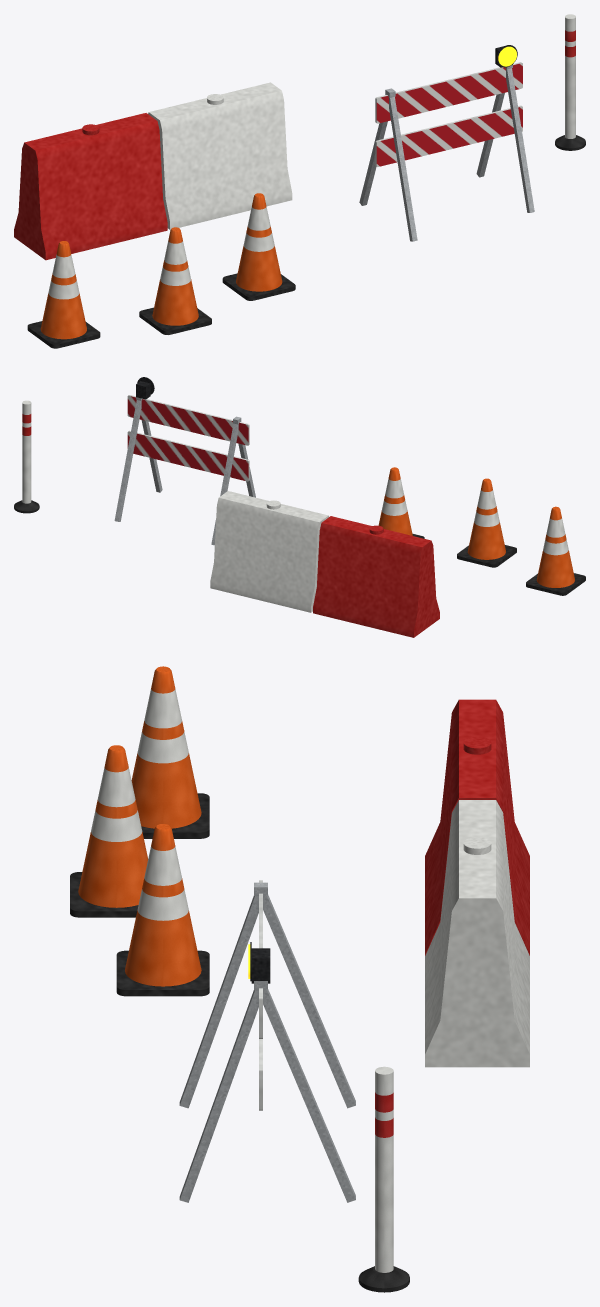
File: road-barrier-set.glb
3 renders of one model, top to bottom at view 1: azimuth 30°, elevation 25°; view 2: azimuth 150°, elevation 25°; view 3: azimuth 270°, elevation 25°, orthographic. The views are drawn at different scales.
Visible parts, largest first — view 1: Water-filled barrier (red), Water-filled barrier (white), A-frame barricade, Traffic cones, Delineator post, Traffic cone base.001, Traffic cone base.002, Traffic cone base; view 2: Water-filled barrier (red), Water-filled barrier (white), A-frame barricade, Traffic cones, Delineator post, Traffic cone base.001, Traffic cone base; view 3: Traffic cones, Water-filled barrier (white), A-frame barricade, Water-filled barrier (red), Delineator post, Traffic cone base.002, Traffic cone base.001, Traffic cone base.
Part boxes in pixels (x1,y1,x2,y2): Water-filled barrier (red): [14, 113, 167, 260]; Water-filled barrier (white): [148, 82, 292, 229]; A-frame barricade: [359, 45, 534, 241]; Traffic cones: [40, 193, 282, 339]; Delineator post: [555, 14, 585, 150]; Traffic cone base.001: [139, 307, 211, 334]; Traffic cone base.002: [222, 273, 295, 300]; Traffic cone base: [27, 321, 100, 348]; Water-filled barrier (red): [313, 516, 439, 637]; Water-filled barrier (white): [210, 491, 328, 612]; A-frame barricade: [114, 377, 255, 545]; Traffic cones: [378, 467, 574, 587]; Delineator post: [14, 400, 39, 513]; Traffic cone base.001: [457, 545, 516, 567]; Traffic cone base: [526, 573, 585, 595]; Traffic cones: [78, 666, 201, 986]; Water-filled barrier (white): [425, 800, 529, 1067]; A-frame barricade: [179, 880, 355, 1202]; Water-filled barrier (red): [425, 699, 529, 955]; Delineator post: [358, 1066, 409, 1292]; Traffic cone base.002: [116, 950, 209, 996]; Traffic cone base.001: [70, 872, 138, 917]; Traffic cone base: [141, 793, 209, 838].
Bounding box in the file's own units: 5.01 × 1.21 × 1.97.
12 materials, 12 textured.
